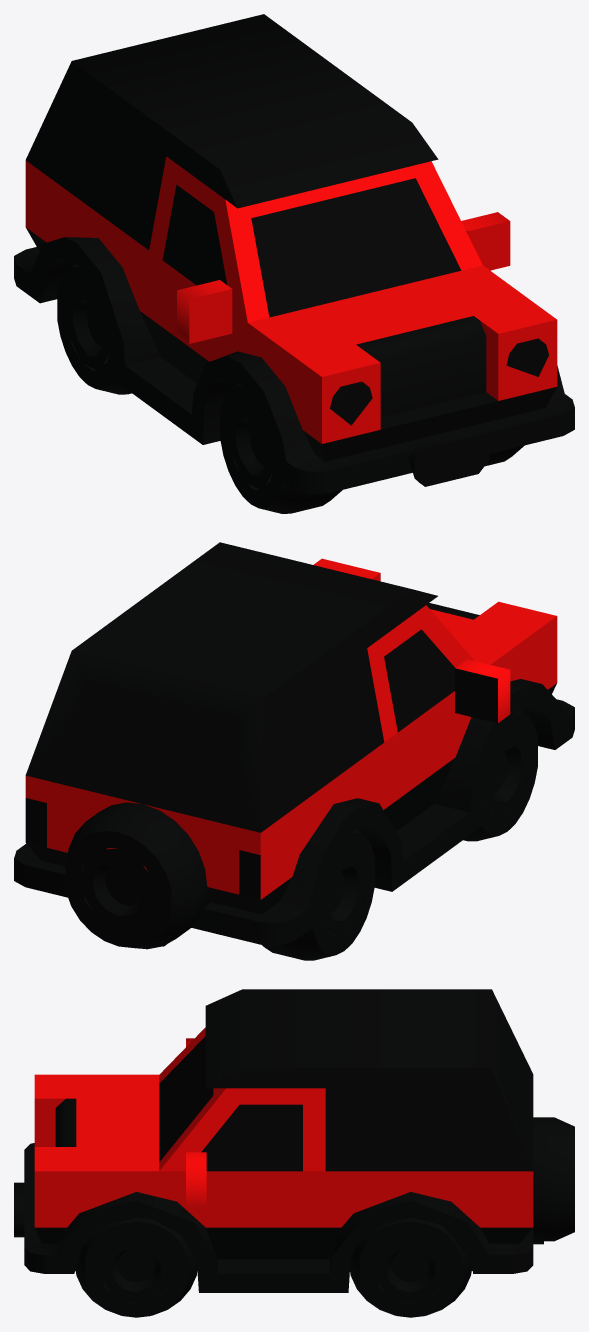
File: suv.glb
3 views of the same model, one above another, from view 1: azimuth 30°, elevation 25°; view 2: azimuth 150°, elevation 25°; view 3: azimuth 270°, elevation 25° (orthographic). The views are drawn at different scales.
Parts seen in each view (by area): view 1: body, wheel-front-right, wheel-back-right; view 2: body, wheel-back, wheel-back-right, wheel-front-right; view 3: body, wheel-front-left, wheel-back-left, wheel-back.
Boxes of the visible parts, left/top/right/bottom form: body: left=14, top=14, right=574, bottom=494; wheel-front-right: left=220, top=382, right=342, bottom=513; wheel-back-right: left=57, top=263, right=131, bottom=394; body: left=14, top=542, right=574, bottom=946; wheel-back: left=65, top=802, right=211, bottom=949; wheel-back-right: left=261, top=829, right=374, bottom=960; wheel-front-right: left=463, top=710, right=537, bottom=841; body: left=14, top=989, right=543, bottom=1292; wheel-front-left: left=75, top=1217, right=197, bottom=1317; wheel-back-left: left=350, top=1217, right=472, bottom=1317; wheel-back: left=533, top=1117, right=574, bottom=1241.
Size of the model in its own units: 1.5 by 1.3 by 2.7.
Materials: 1 (1 with a texture image).
